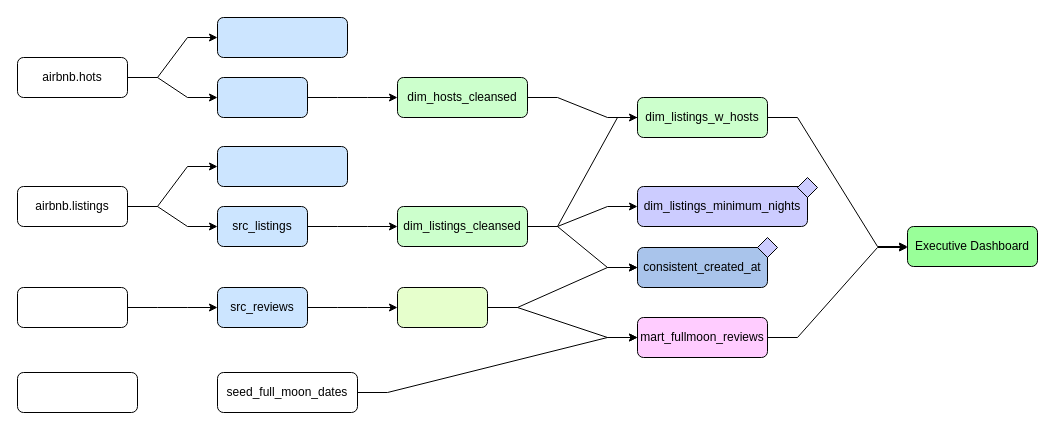
Some shapes in this 1055 by 430 pixel diagram are drawn without their labels. Here are the shapes that lost their labels. From the top down, the centre of each, then its label:
[282,37]: src_raw_hosts
[262,97]: src_hosts
[282,166]: src_raw_listings
[72,307]: airbnb.reviews
[442,307]: fct_reviews
[77,392]: full_moon_dates
